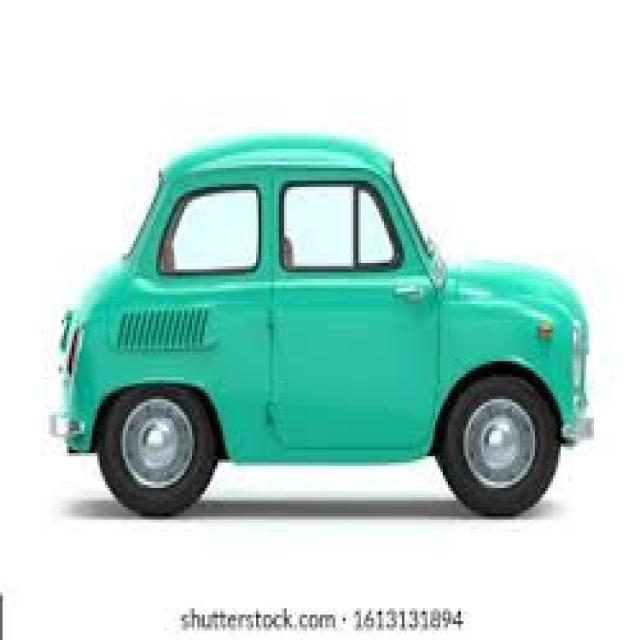Car: (46, 130, 594, 516)
